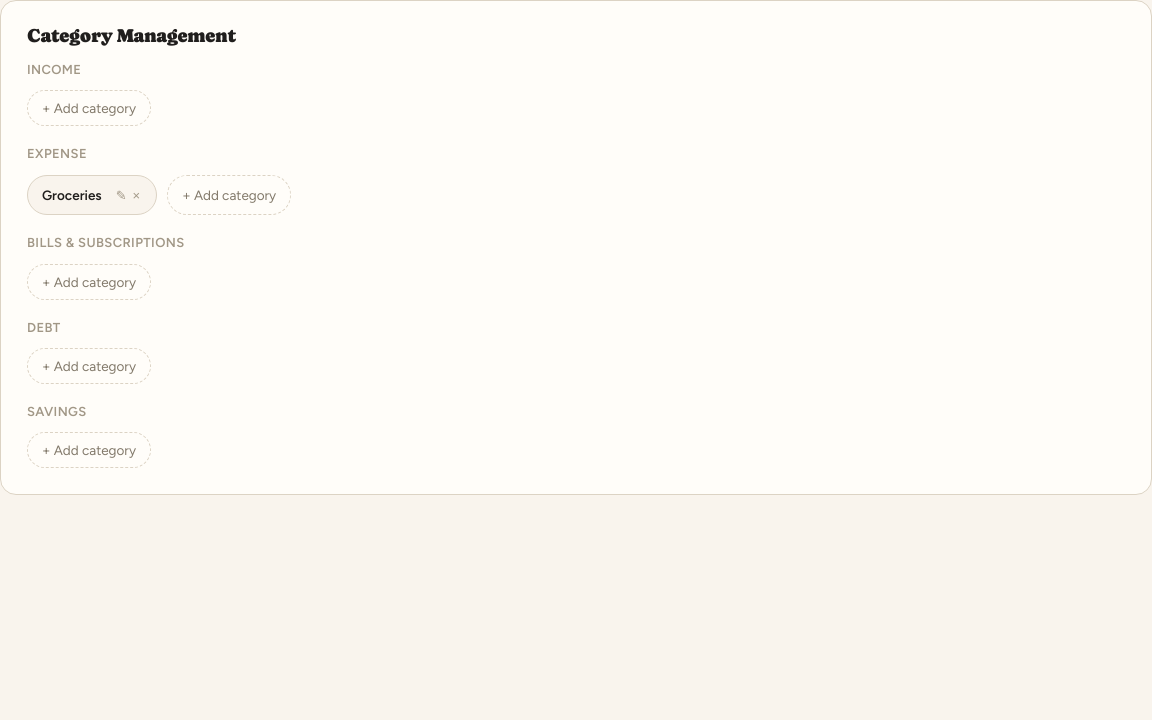
Test case: CategoryManagement › renames a Category in place
Click the button named "Edit Groceries" at [121, 195], box [114,186,129,204]
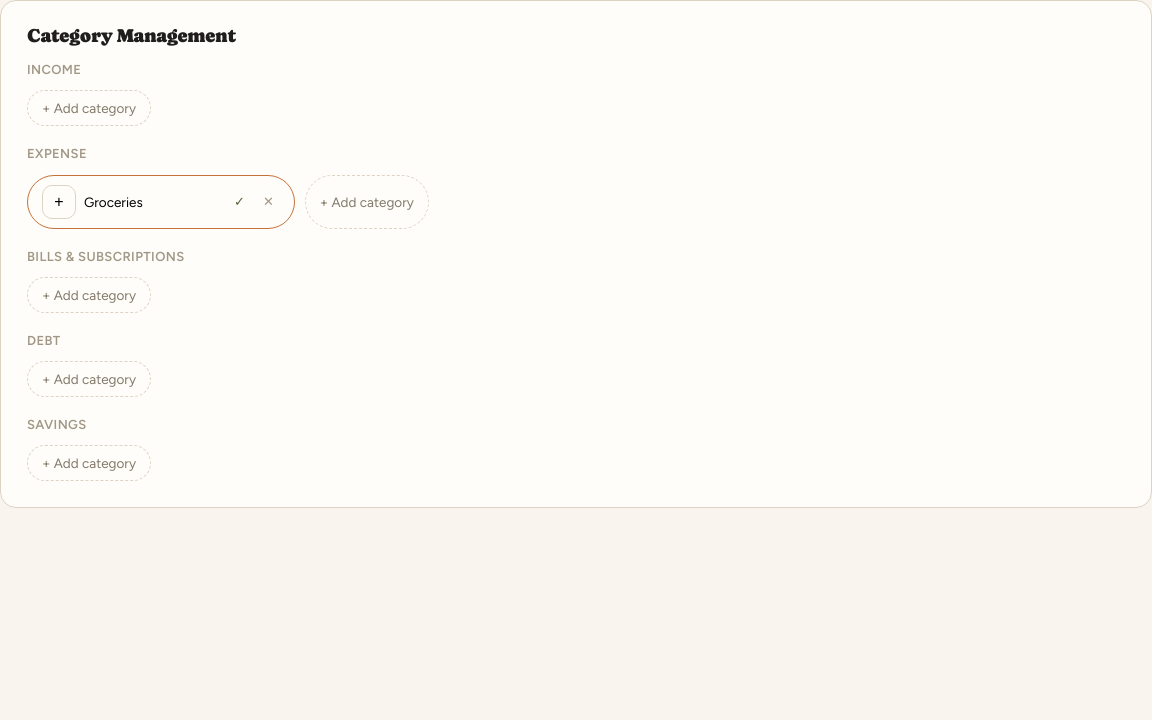
Replace the text in the field named "Category name" with "Food" at [152, 202], box [82,192,222,210]
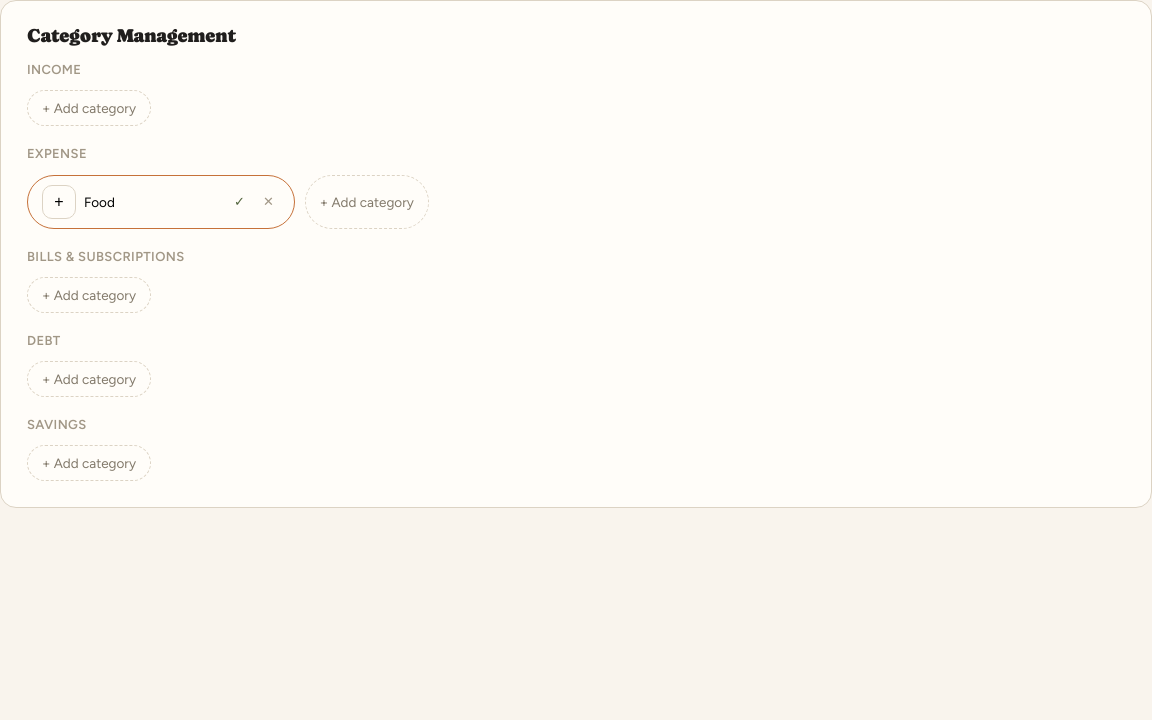
Click the button named "Save" at [239, 202], box [228,193,251,210]
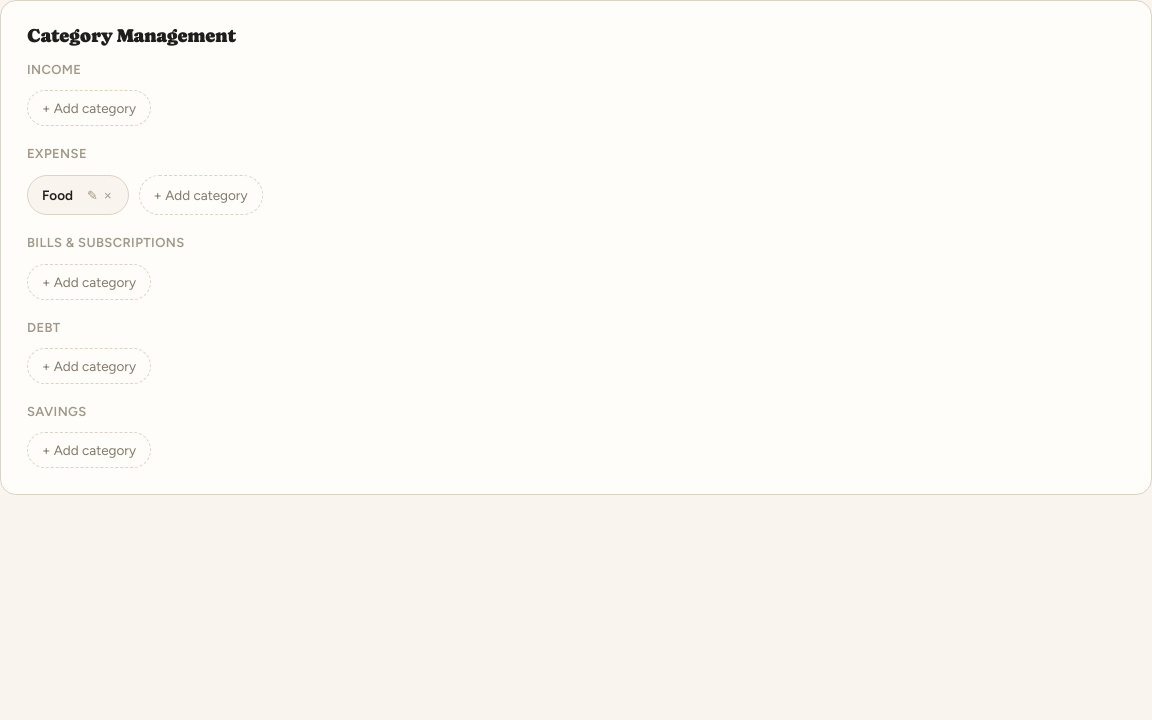
Check: the text "Food" is shown, box [42,184,73,205]
